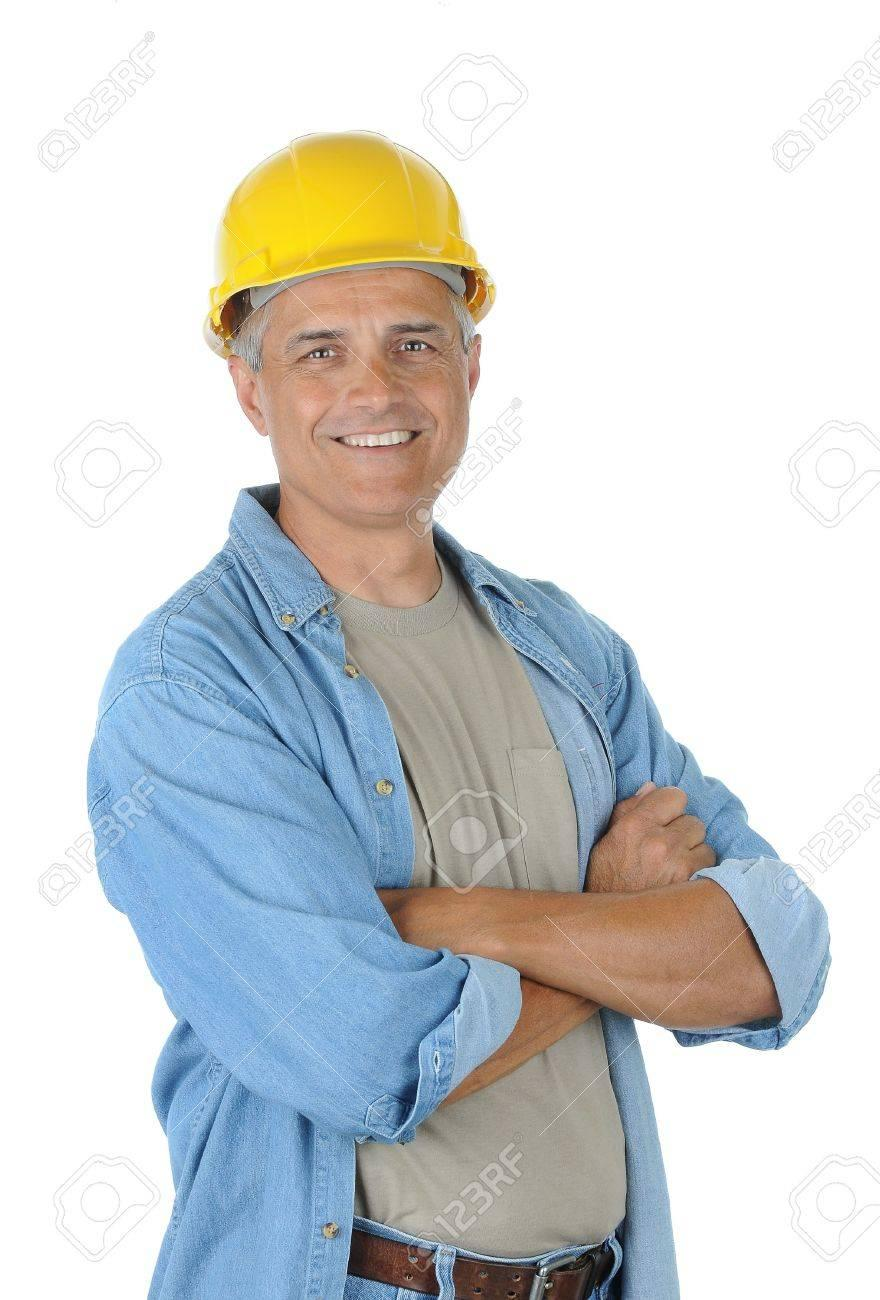helmet: (209, 133, 499, 347)
